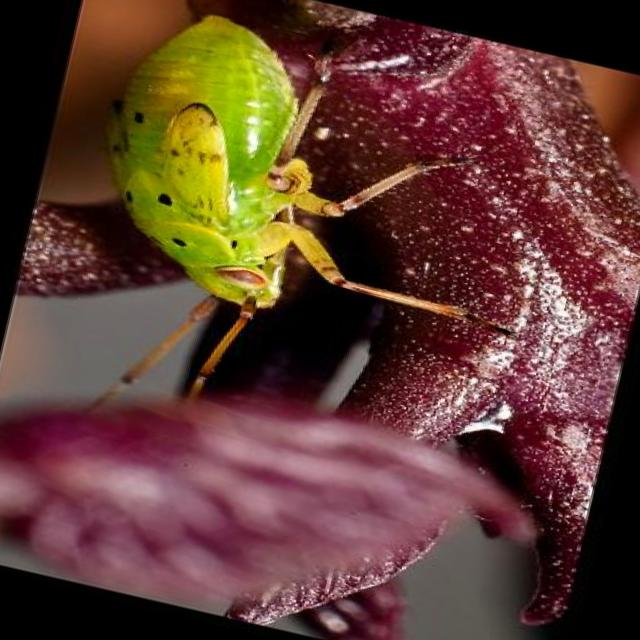Aphid: (19, 0, 542, 425)
